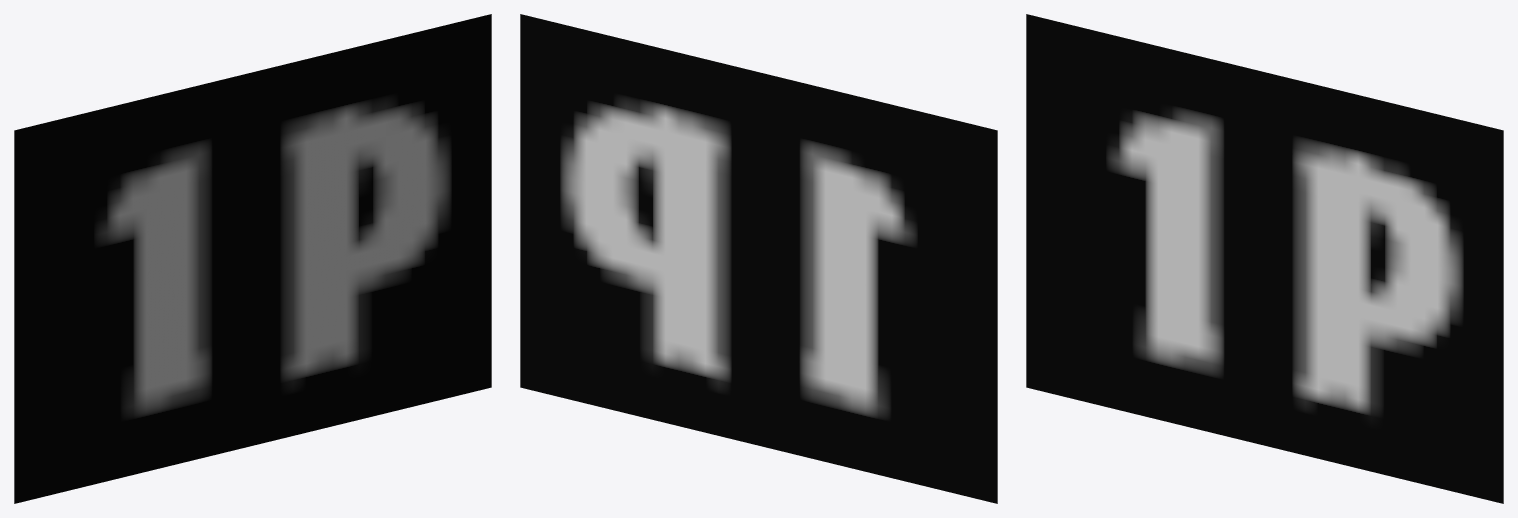
3 views of the same model, side by side, from view 1: azimuth 30°, elevation 25°; view 2: azimuth 150°, elevation 25°; view 3: azimuth 330°, elevation 25° (orthographic).
Parts seen in each view (by area): view 1: Joint_0_Object_0; view 2: Joint_0_Object_0; view 3: Joint_0_Object_0.
Boxes of the visible parts, x1,y1,x2,y2 form: Joint_0_Object_0: [14, 14, 491, 503]; Joint_0_Object_0: [520, 14, 997, 503]; Joint_0_Object_0: [1026, 14, 1503, 503].
Bounding box in the file's own units: 24.26 × 18.14 × 0.
1 material, 1 textured.
